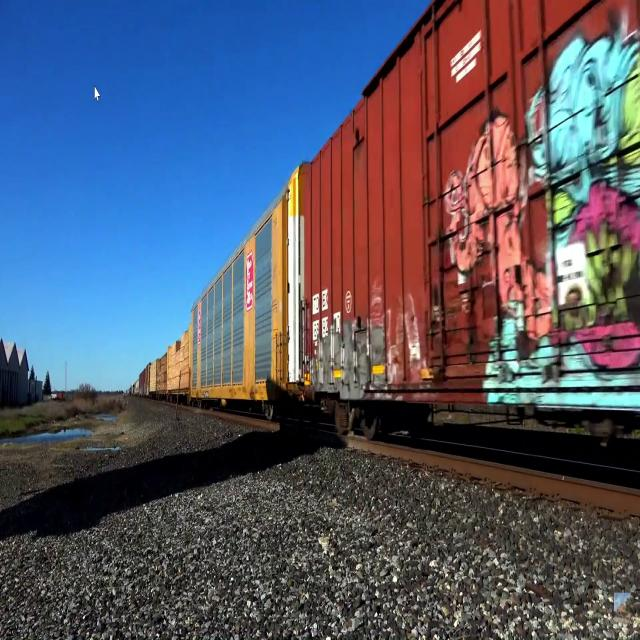autorack: (190, 163, 298, 424)
boxcar: (299, 0, 640, 459)
